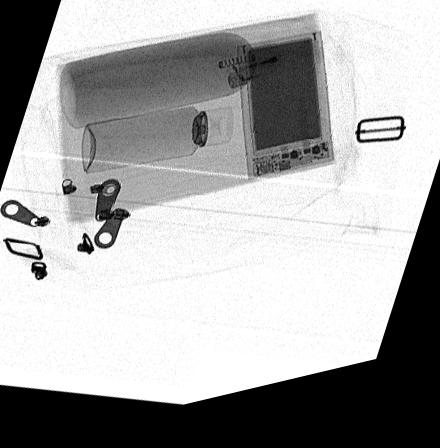Lighter: (226, 64, 301, 99)
Powerbank: (235, 45, 333, 190)
Sprayer: (81, 114, 234, 176)
